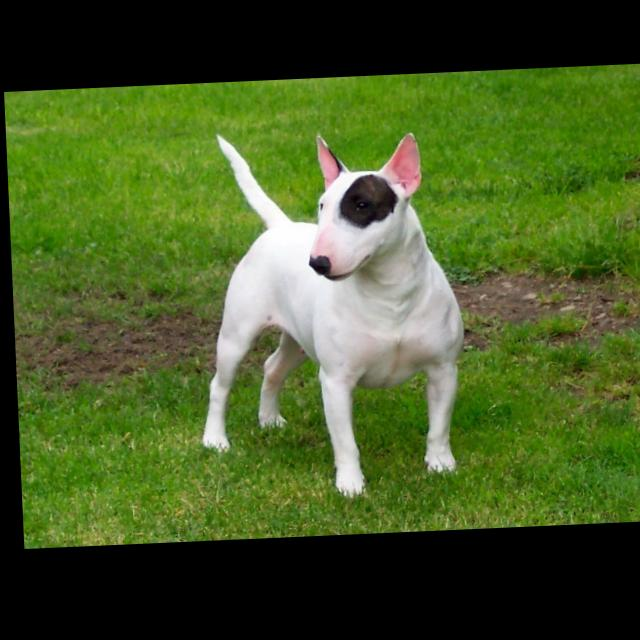bullterrier: (188, 127, 468, 507)
